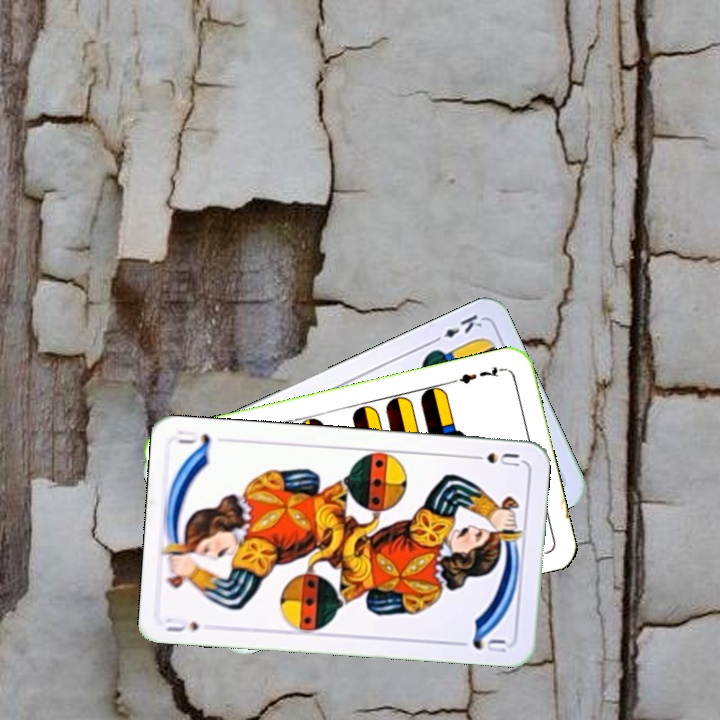E7: (449, 363, 508, 387)
EK: (427, 310, 485, 346)
SU: (465, 449, 522, 469), (162, 614, 202, 635)
